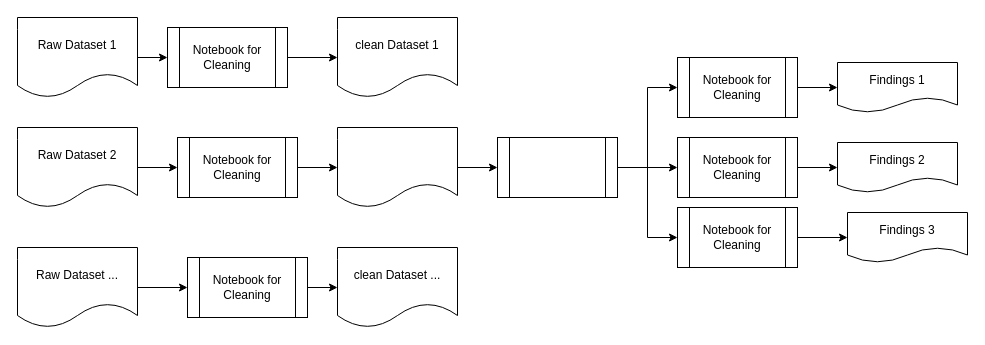
Some shapes in this 985 by 345 pixel diagram are drawn without their labels. Here are the shapes that lost their labels. From the top down, the centre of each, then its label:
[397,167]: clean Dataset 2
[557,167]: Merge Notebook
